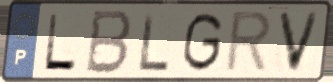B: (83, 8, 135, 77)
G: (180, 10, 226, 74)
L: (41, 11, 79, 73), (138, 10, 172, 74)
R: (221, 9, 275, 76)
V: (275, 9, 323, 75)
